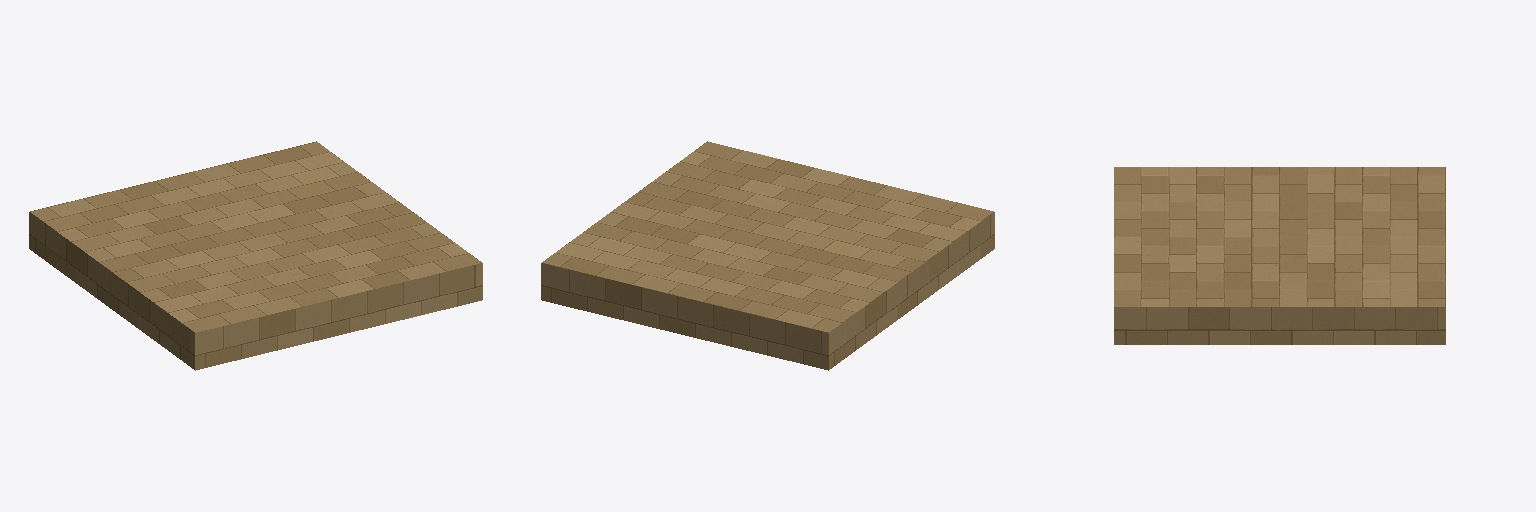
3 renders of one model, left to right at view 1: azimuth 30°, elevation 25°; view 2: azimuth 150°, elevation 25°; view 3: azimuth 270°, elevation 25°, orthographic.
Visible parts, largest first — view 1: floor5-tiles; view 2: floor5-tiles; view 3: floor5-tiles.
Part boxes in pixels (x1,y1,x2,y2): floor5-tiles: (29,141,482,370); floor5-tiles: (541,141,994,370); floor5-tiles: (1114,167,1445,344).
Bounding box in the file's own units: 1 × 0.125 × 1.
Materials: 1 (1 with a texture image).